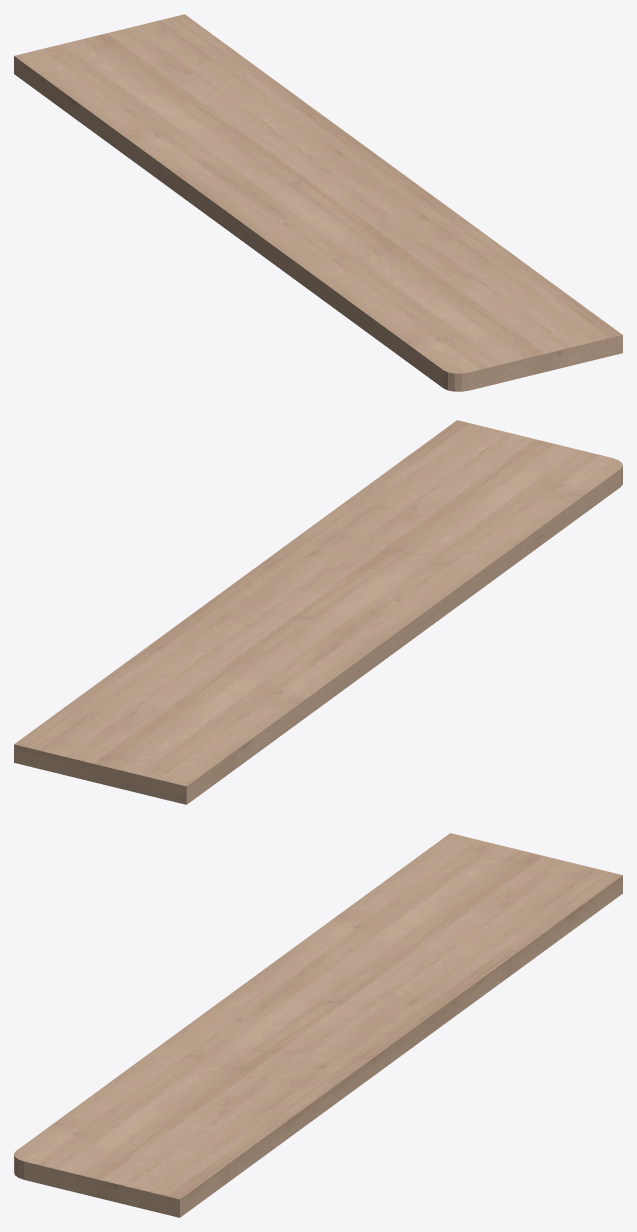
The picture shows the model from 3 angles, top to bottom: view 1: azimuth 30°, elevation 25°; view 2: azimuth 150°, elevation 25°; view 3: azimuth 330°, elevation 25°; orthographic projection.
Visible parts, largest first — view 1: Mesh1_Agrupar_1_Model; view 2: Mesh1_Agrupar_1_Model; view 3: Mesh1_Agrupar_1_Model.
Boxes of the visible parts, x1,y1,x2,y2 form: Mesh1_Agrupar_1_Model: [14, 14, 622, 391]; Mesh1_Agrupar_1_Model: [14, 420, 622, 804]; Mesh1_Agrupar_1_Model: [14, 833, 622, 1217].
Size of the model in its own units: 1.08 by 0.11 by 4.8.
Materials: 1 (1 with a texture image).
